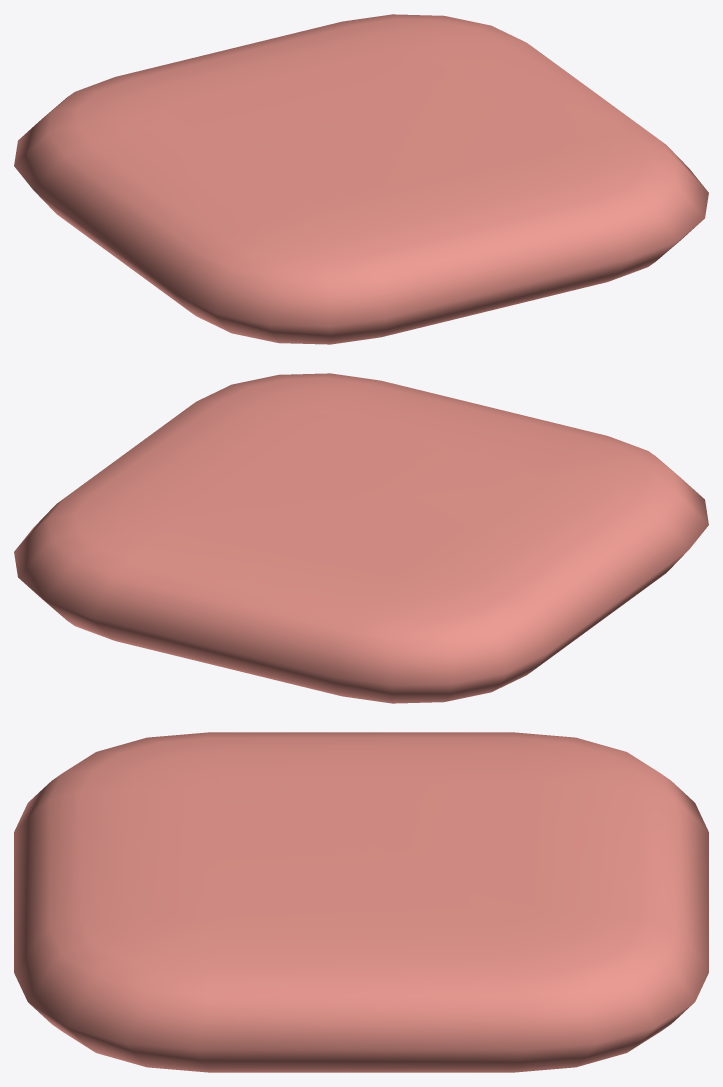
The model's file is m_coloniusLory_Pillow.fbx.
3 views of the same model, one above another, from view 1: azimuth 30°, elevation 25°; view 2: azimuth 150°, elevation 25°; view 3: azimuth 270°, elevation 25° (orthographic). The views are drawn at different scales.
Visible parts, largest first — view 1: m_coloniusLory_Pillow; view 2: m_coloniusLory_Pillow; view 3: m_coloniusLory_Pillow.
Part boxes in pixels (x1=…): m_coloniusLory_Pillow: x1=14, y1=14, x2=708, y2=344; m_coloniusLory_Pillow: x1=14, y1=373, x2=708, y2=703; m_coloniusLory_Pillow: x1=14, y1=732, x2=708, y2=1072.
Bounding box in the file's own units: 47.13 × 7.86 × 47.13.
